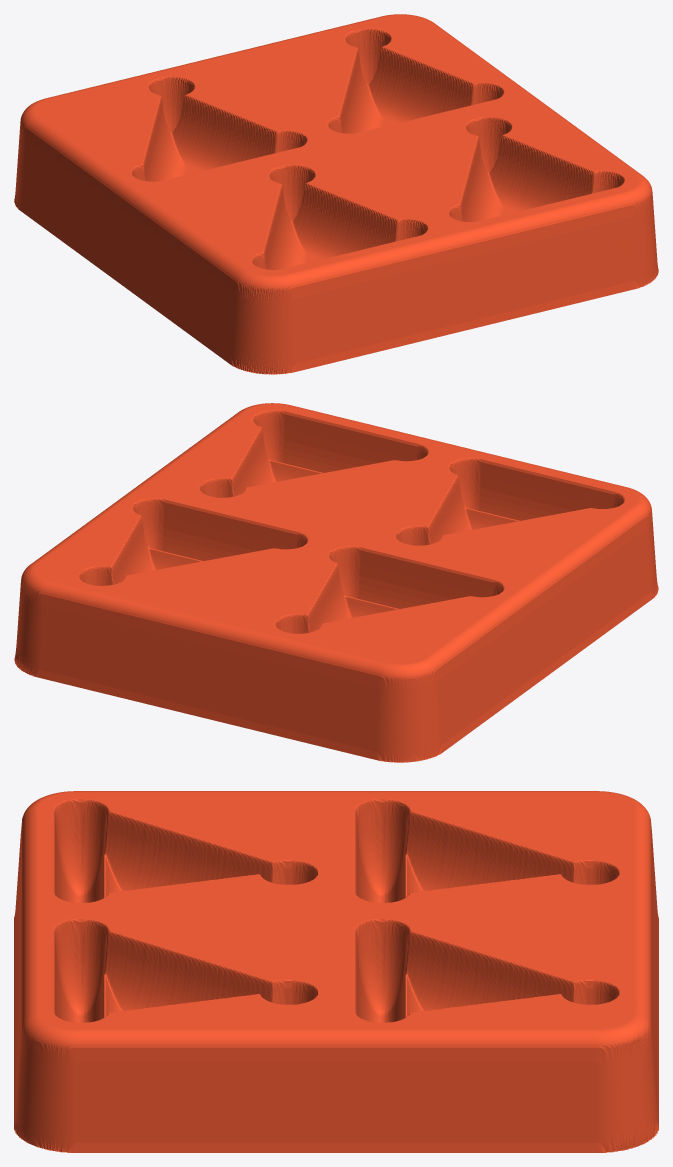
The model's file is mold.glb.
The picture shows the model from 3 angles, top to bottom: view 1: azimuth 30°, elevation 25°; view 2: azimuth 150°, elevation 25°; view 3: azimuth 270°, elevation 25°; orthographic projection. The views are drawn at different scales.
Parts seen in each view (by area): view 1: geometry_0; view 2: geometry_0; view 3: geometry_0.
Boxes of the visible parts, box(x1,y1,x2,y2) form: geometry_0: box(14, 14, 658, 374); geometry_0: box(14, 403, 658, 762); geometry_0: box(14, 791, 658, 1152).
Size of the model in its own units: 0.089 by 0.0182 by 0.0942.
